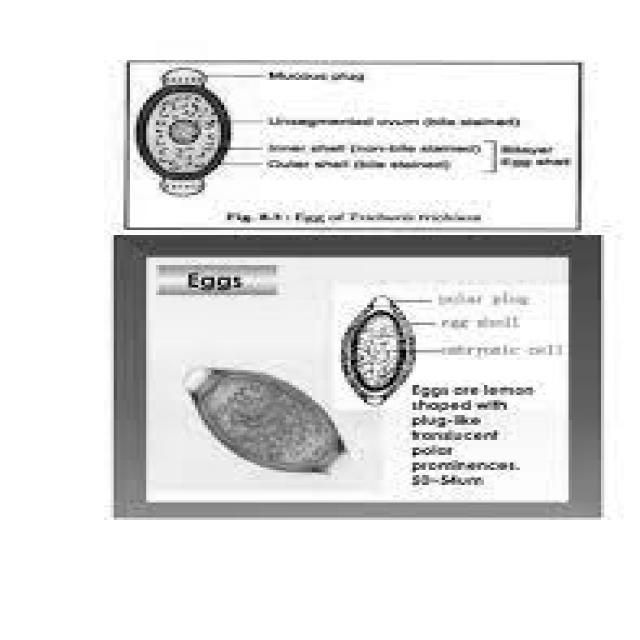Trichuris Trichiura: (178, 361, 360, 484)
